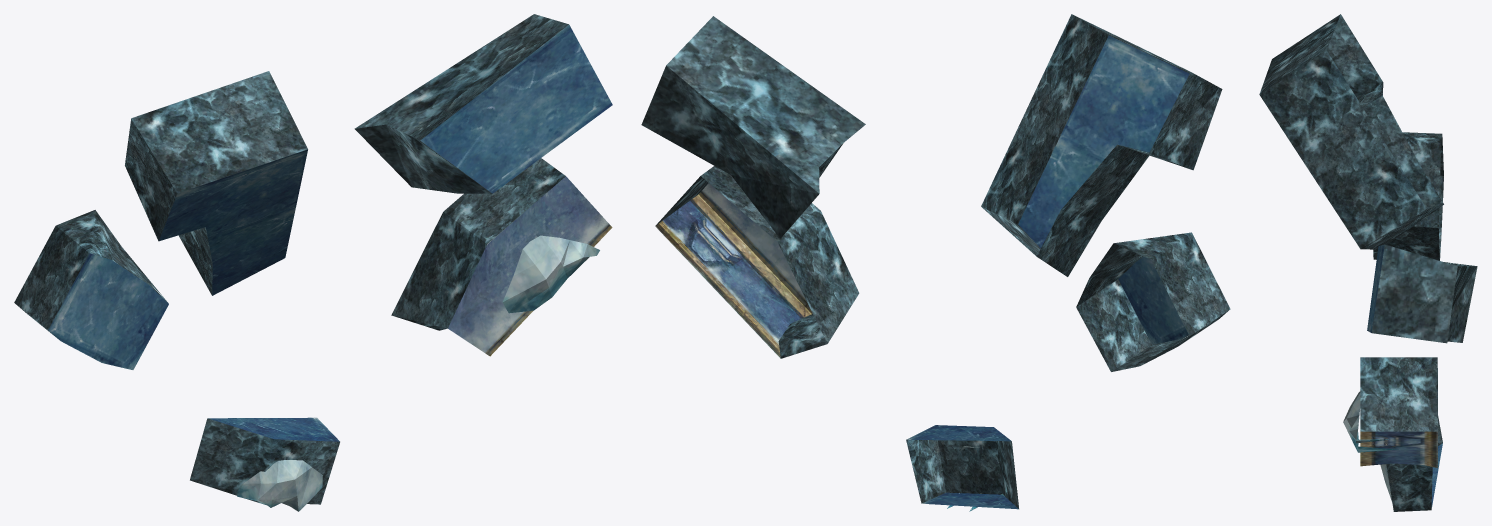
File: juqing_fuben_337_suishi01.obj
3 renders of one model, left to right at view 1: azimuth 30°, elevation 25°; view 2: azimuth 150°, elevation 25°; view 3: azimuth 270°, elevation 25°, orthographic. The views are drawn at different scales.
Visible parts, largest first — view 1: juqing_fuben_337_suishi01; view 2: juqing_fuben_337_suishi01; view 3: juqing_fuben_337_suishi01.
Boxes of the visible parts, <box> form: juqing_fuben_337_suishi01: <box>14,14,612,511</box>; juqing_fuben_337_suishi01: <box>641,14,1230,511</box>; juqing_fuben_337_suishi01: <box>1259,14,1477,511</box>.
Bounding box in the file's own units: 432 × 356 × 166.
Materials: 4 (4 with a texture image).
